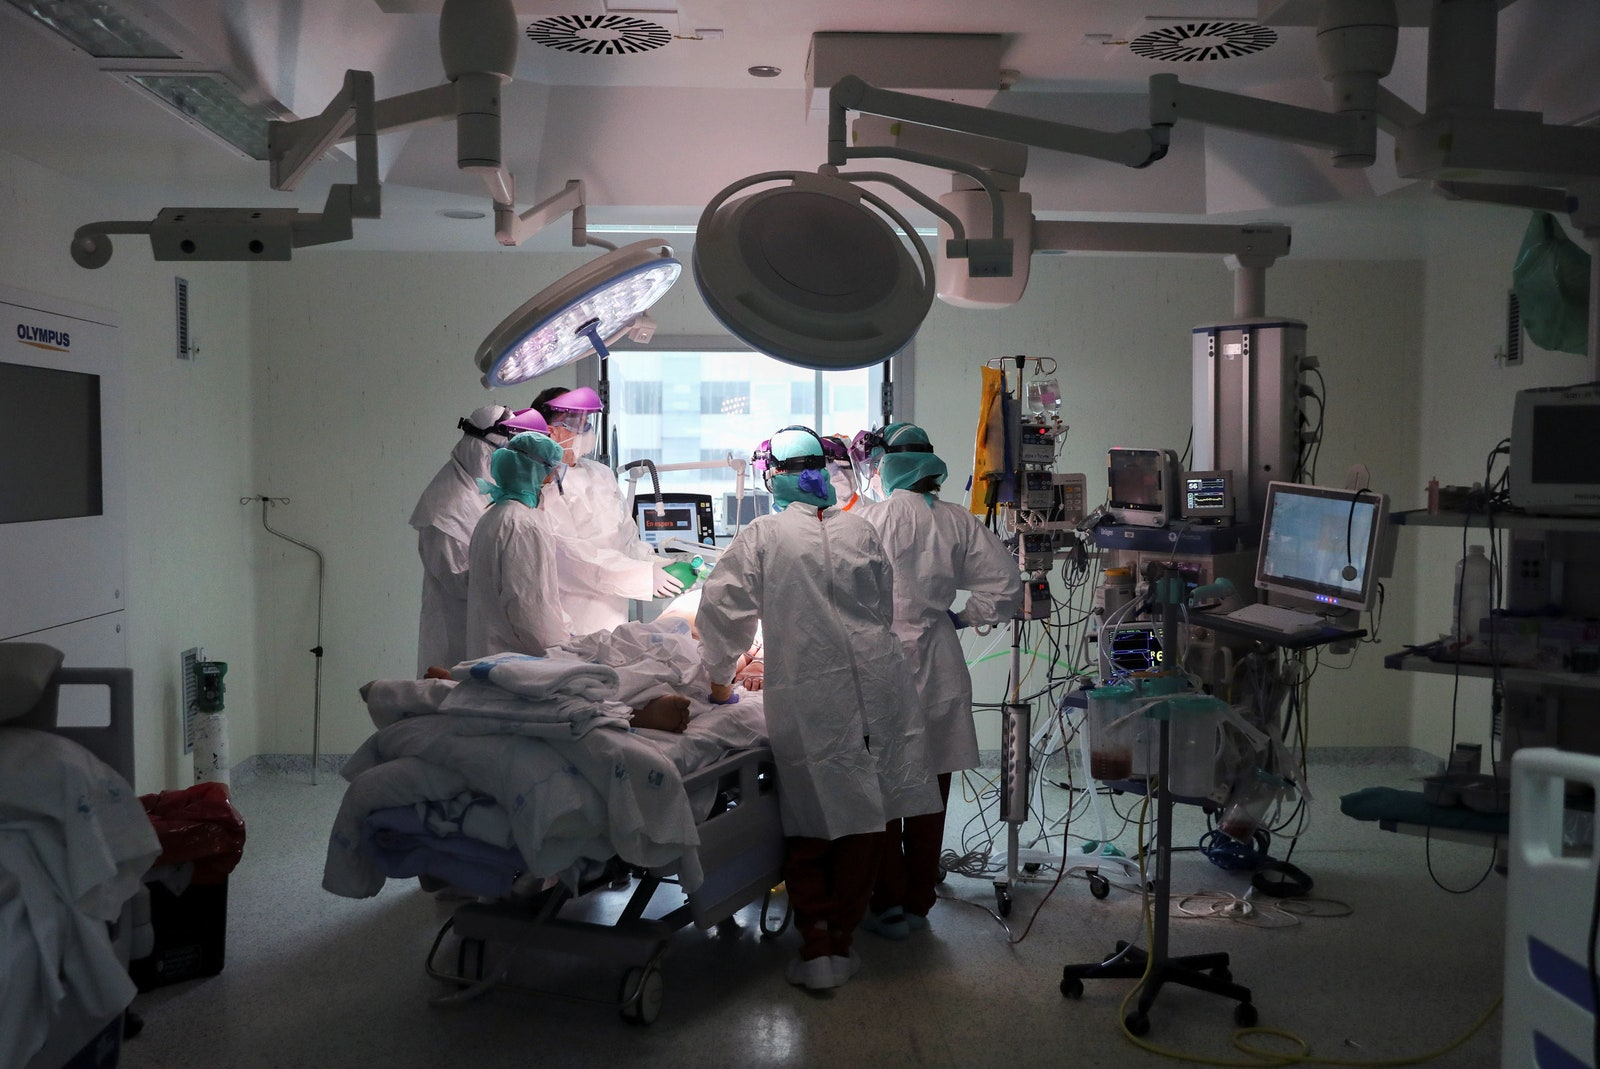bedside_monitor: (1256, 482, 1384, 606), (1510, 386, 1600, 512), (633, 495, 709, 553), (1114, 450, 1172, 521), (1184, 465, 1233, 523)
breathing_tube: (1030, 703, 1106, 860)
infusion_pump: (1025, 420, 1053, 621)
iv_pole: (980, 353, 1061, 857), (235, 488, 330, 789)
operating_bed: (320, 638, 772, 1050)
patient: (433, 571, 778, 717)
staff: (693, 426, 945, 996), (862, 420, 1024, 949), (393, 408, 554, 679), (521, 390, 664, 627), (464, 434, 569, 669)
surgical_light: (692, 168, 936, 372), (475, 239, 683, 391)
waste_bin: (128, 782, 246, 991)
